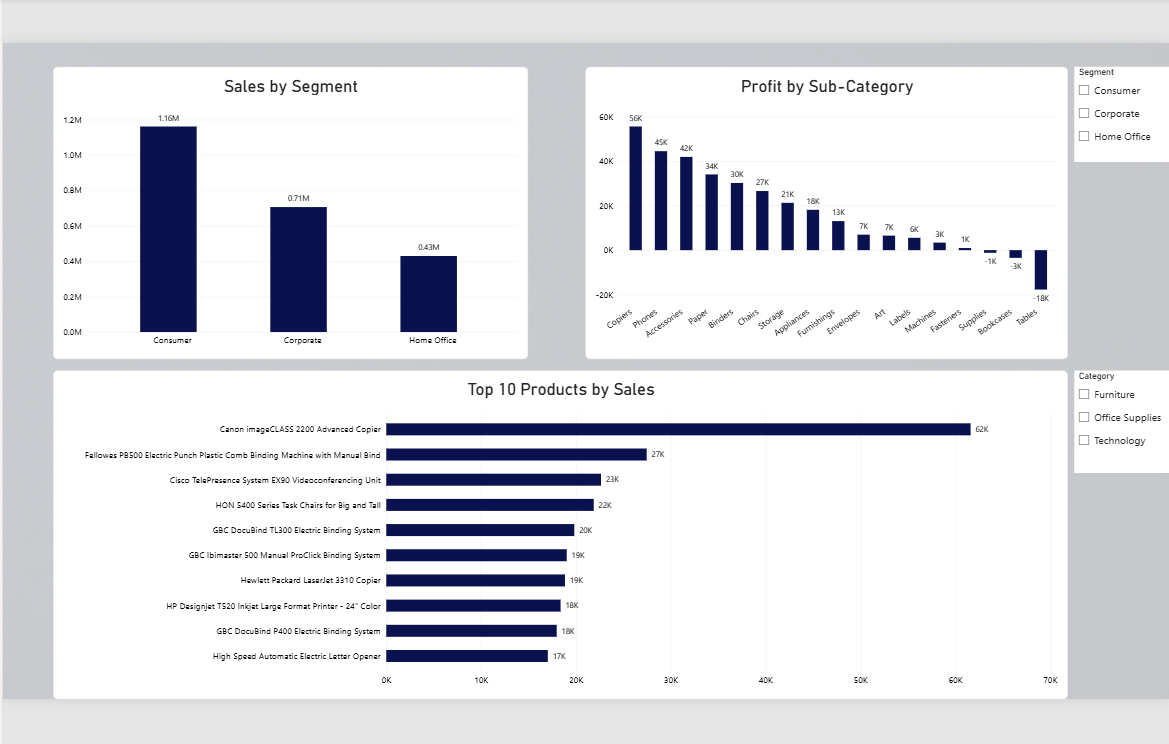

What the dashboard file says about the page in this screenshot:
{"tool":"powerbi","page":{"name":"Page 2","canvas":[1920,1080],"ordinal":1},"visuals":[{"type":"columnChart","title":"Sales by Segment","fields":{"Category":["Online Retail Sales.Segment"],"Y":["Sum(Online Retail Sales.Sales)"]},"box":[82.3,39.1,782.2,481.6],"z":0},{"type":"columnChart","title":"Profit by Sub-Category","fields":{"Category":["Online Retail Sales.Sub-Category"],"Y":["Sum(Online Retail Sales.Profit)"]},"box":[959.2,39.1,794.5,481.6],"z":1000},{"type":"clusteredBarChart","title":"Top 10 Products by Sales","fields":{"Category":["Online Retail Sales.Product Name"],"Y":["Sum(Online Retail Sales.Sales)"]},"box":[82.3,539.3,1671.4,541.3],"z":2000},{"type":"slicer","fields":{"Values":["Online Retail Sales.Segment"]},"box":[1764,39.1,156.4,156.4],"z":3000},{"type":"slicer","fields":{"Values":["Online Retail Sales.Category"]},"box":[1764,539.3,156.4,168.8],"z":4000}]}

Visuals, with their boxes on the page's 1920x1080 design canvas (x1, y1, x2, y2). These are canvas units, not pixel positions in the 1169x744 screenshot, which may show the page scaled, cropped or inside an application window:
"Sales by Segment" columnChart: <bbox>82, 39, 864, 521</bbox>
"Profit by Sub-Category" columnChart: <bbox>959, 39, 1754, 521</bbox>
"Top 10 Products by Sales" clusteredBarChart: <bbox>82, 539, 1754, 1081</bbox>
slicer - Online Retail Sales.Segment: <bbox>1764, 39, 1920, 196</bbox>
slicer - Online Retail Sales.Category: <bbox>1764, 539, 1920, 708</bbox>
